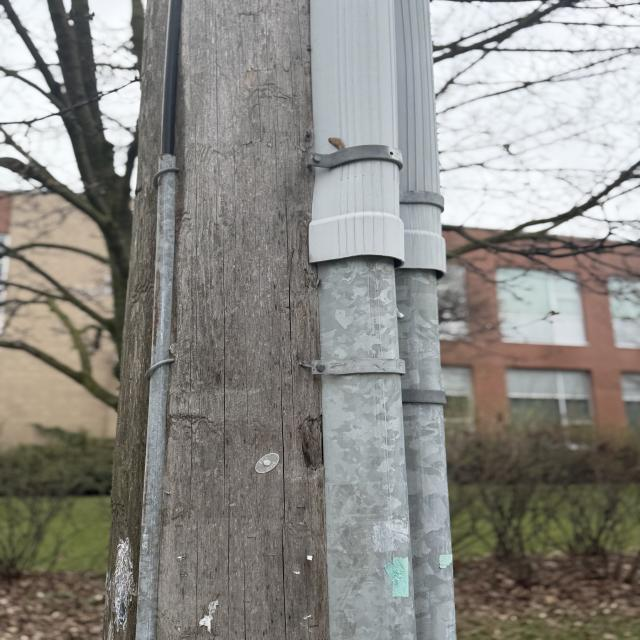Electrical Pole: (84, 0, 457, 638)
